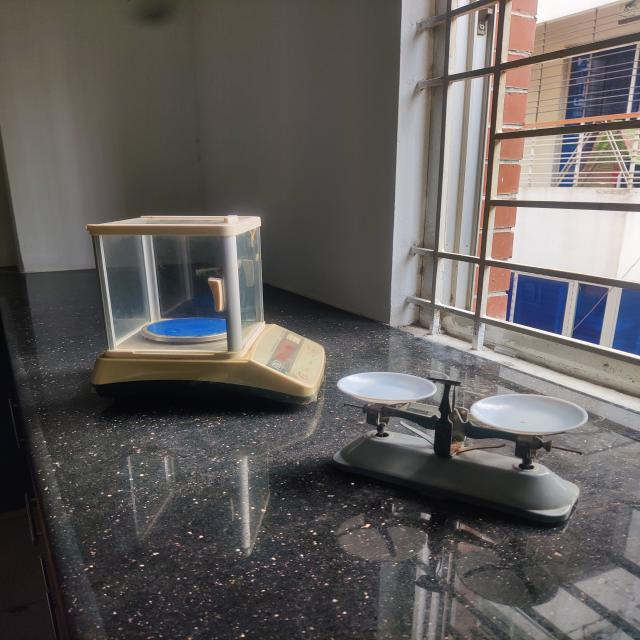Mechanical_Balance_Scale: (330, 370, 600, 542)
Precision_Weight_Scale: (72, 205, 327, 426)
